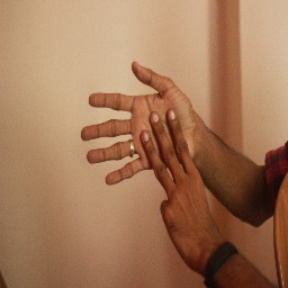M: (77, 59, 211, 202)
